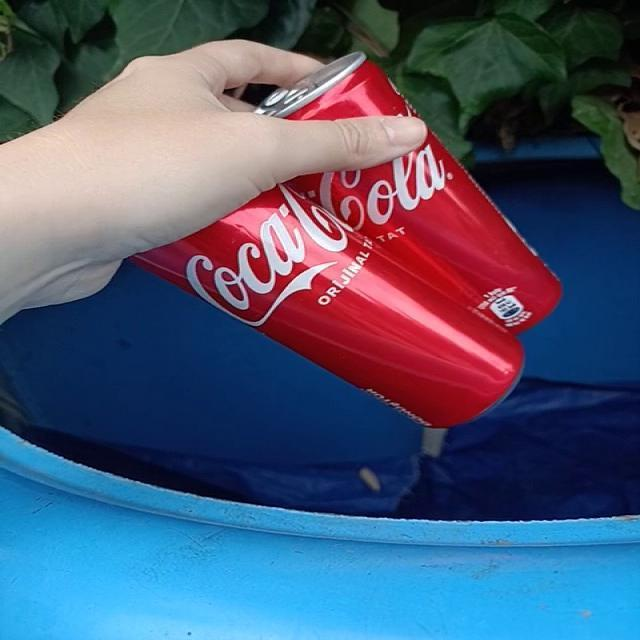Bin: (1, 140, 640, 640)
Metal: (132, 132, 561, 428), (256, 52, 413, 120)
